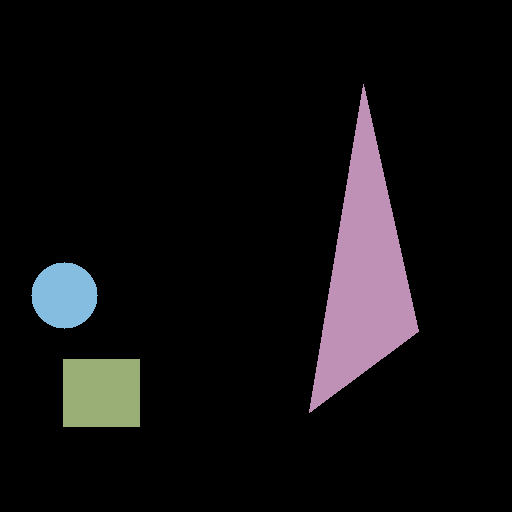circle: (31, 262, 97, 328)
rectangle: (63, 359, 139, 426)
triangle: (309, 84, 418, 412)
